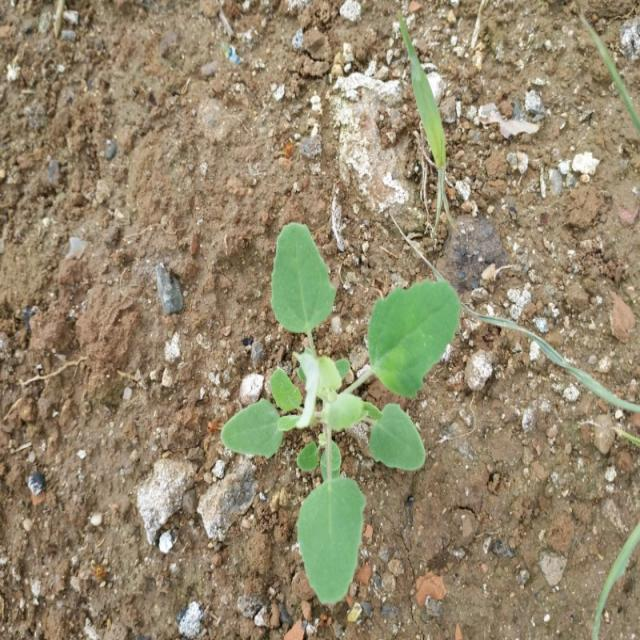ca: (220, 224, 460, 608)
